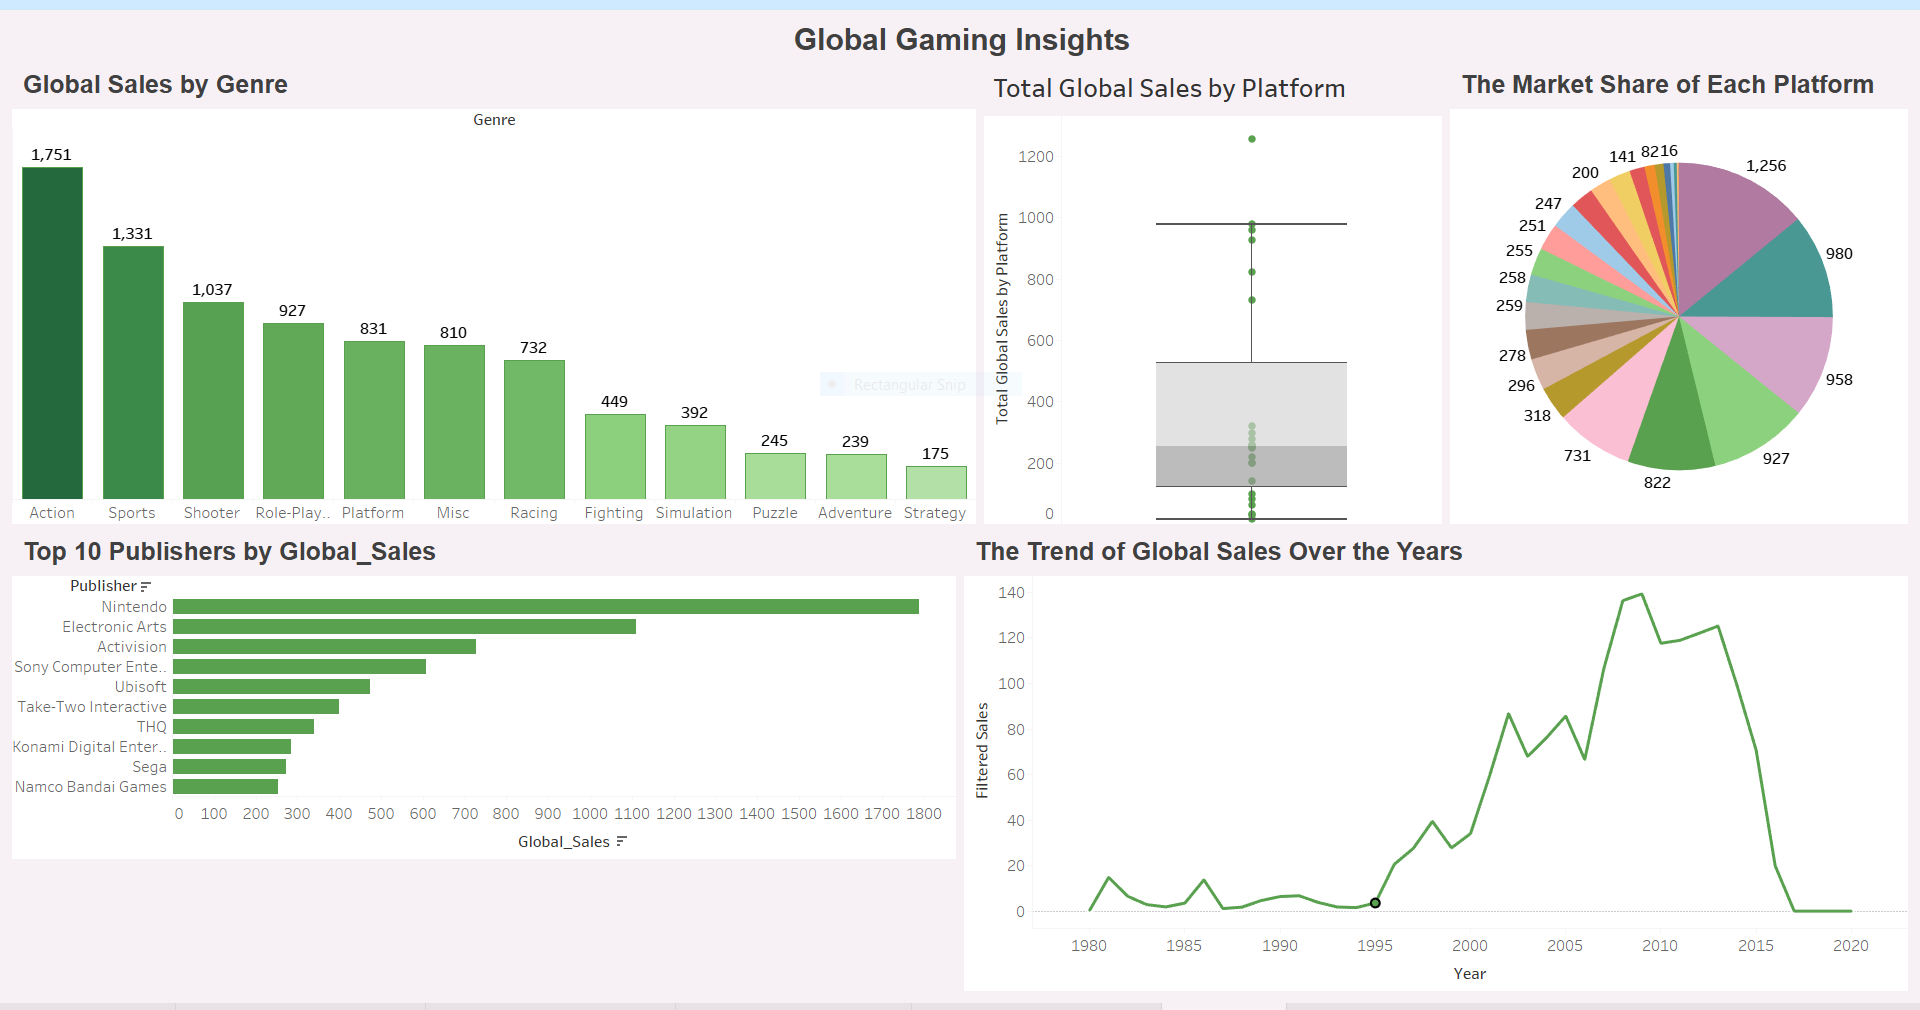

What the dashboard file says about the page in this screenshot:
{"tool":"tableau","page":{"name":"Dashboard 1","canvas":[1000,1000],"units":"permille","ordinal":0},"visuals":[{"type":"text","box":[4.9,9.9,990.2,139.3]},{"type":"worksheet","title":"Global Sales by Genre ","mark":"Automatic","rows":["Global_Sales"],"cols":["Genre"],"box":[4.9,149.2,495.1,210.2]},{"type":"worksheet","title":"The Trend of Global Sales Over the Years","mark":"Automatic","rows":["Calculation_1390486439497781248"],"cols":["Year"],"box":[500,149.2,495.1,420.4]},{"type":"worksheet","title":"The Market Share of Each Platform","mark":"Pie","box":[4.9,359.4,495.1,210.2]},{"type":"worksheet","title":"Top 10 Publishers by Global_Sales","mark":"Automatic","rows":["Publisher"],"cols":["Global_Sales"],"box":[4.9,569.6,495.1,420.4]},{"type":"worksheet","title":" Total Global Sales by Platform","mark":"Circle","rows":["Calculation_1390486439555194882"],"box":[500,569.6,495.1,420.4]}]}

Visuals, with their boxes on the dashboard's canvas, which has no fixed pixel size, in thousandths of its width and height (x1, y1, x2, y2). These are canvas units, not pixel positions in the 1920x1010 screenshot, which may show the page scaled, cropped or inside an application window:
text: (x1=5, y1=10, x2=995, y2=149)
"Global Sales by Genre " worksheet: (x1=5, y1=149, x2=500, y2=359)
"The Trend of Global Sales Over the Years" worksheet: (x1=500, y1=149, x2=995, y2=570)
"The Market Share of Each Platform" worksheet (Pie marks): (x1=5, y1=359, x2=500, y2=570)
"Top 10 Publishers by Global_Sales" worksheet: (x1=5, y1=570, x2=500, y2=990)
" Total Global Sales by Platform" worksheet (Circle marks): (x1=500, y1=570, x2=995, y2=990)
